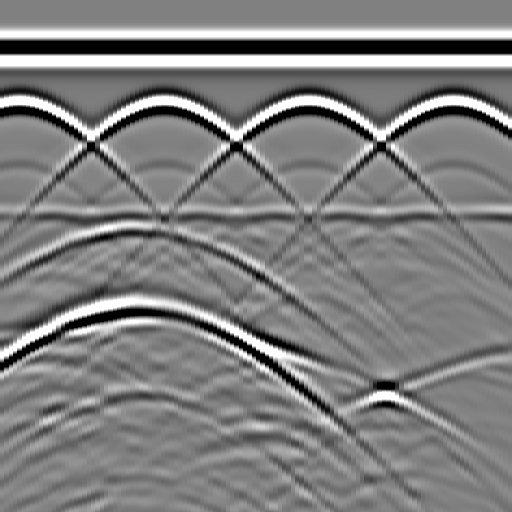grout_surface: (1, 200, 512, 230)
rebar: (142, 84, 182, 124), (286, 84, 326, 124), (430, 84, 470, 124)
rock_surface: (1, 318, 511, 397)
water_void: (106, 204, 166, 244)
